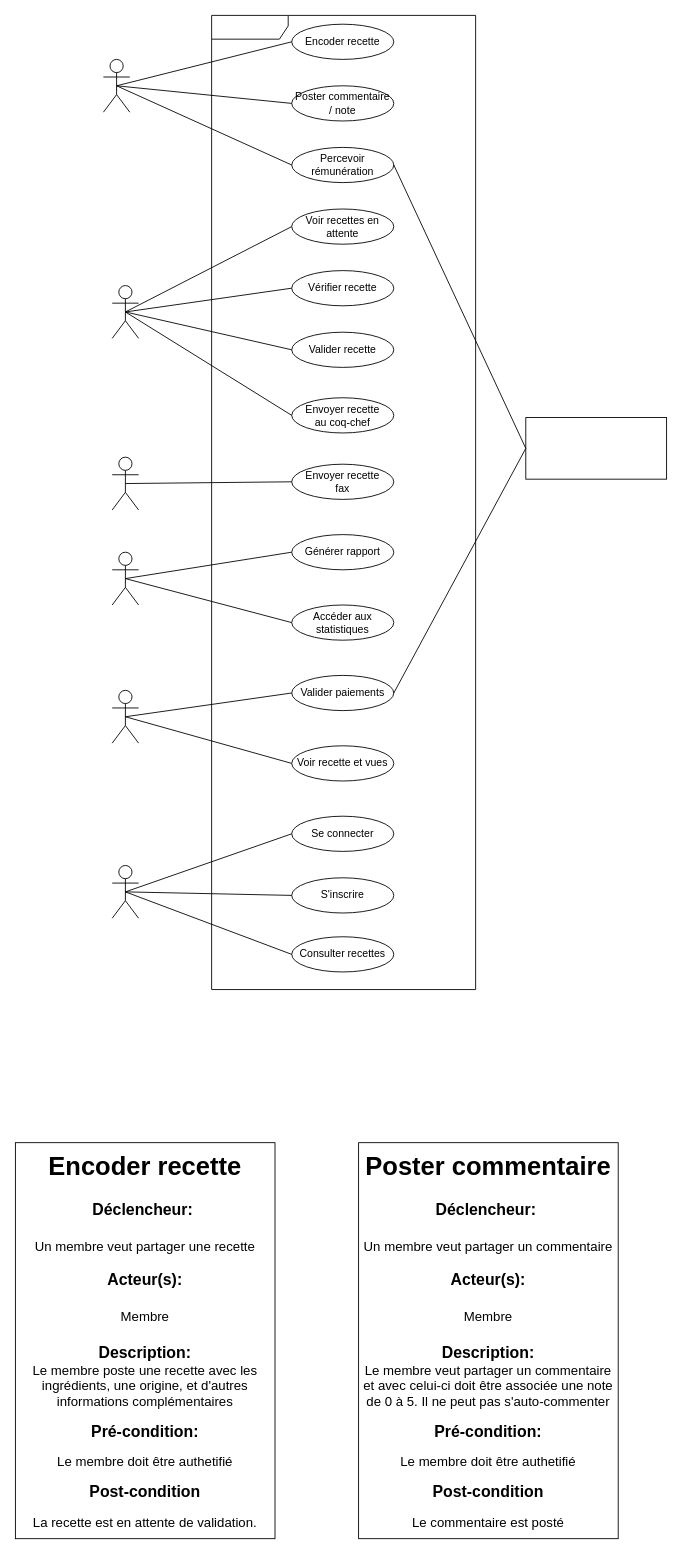
Some shapes in this 682 by 1554 pixel diagram are drawn without their labels. Each missing label, with the centre of its shape:
"<<actor>> PayOnline" goes at [596,448].
"Comptable" goes at [125,716].
"CuisinezMoi" goes at [343,502].
"Gérant" goes at [125,578].
"Membre" goes at [116,85].
"Secrétaire" goes at [125,483].
"Valideur" goes at [125,311].
"Visiteur" goes at [125,891].
